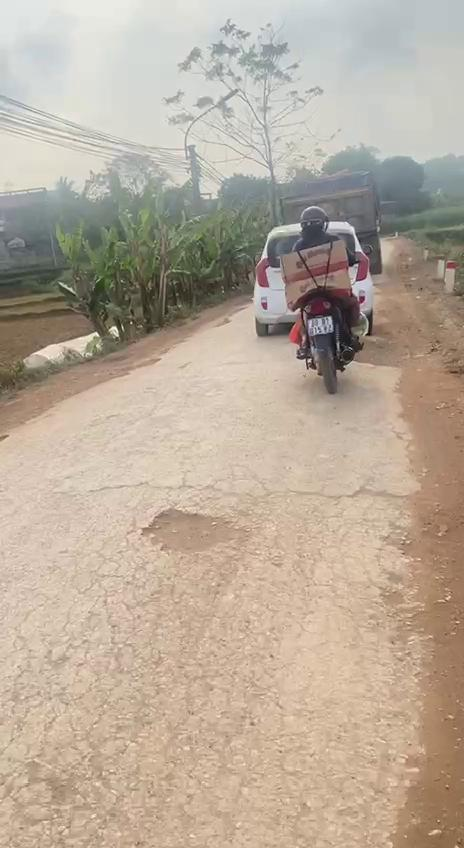pothole: (140, 503, 253, 557)
